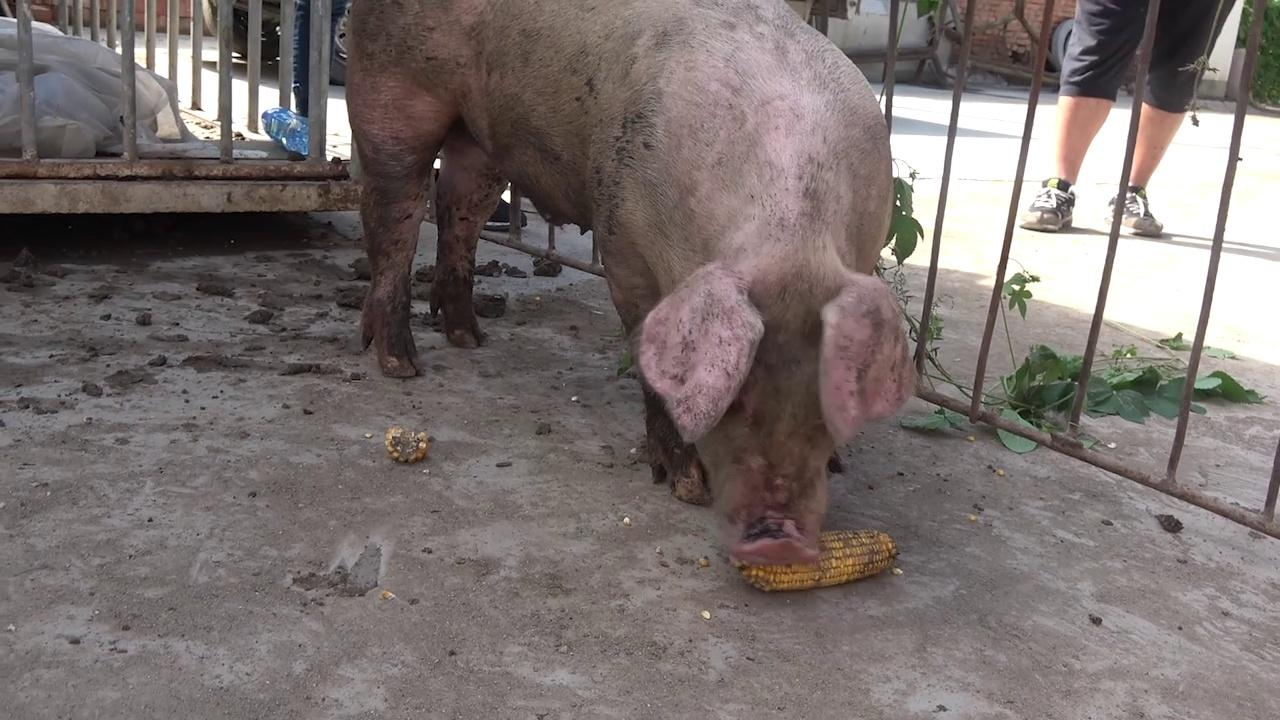Face: (623, 256, 922, 575)
